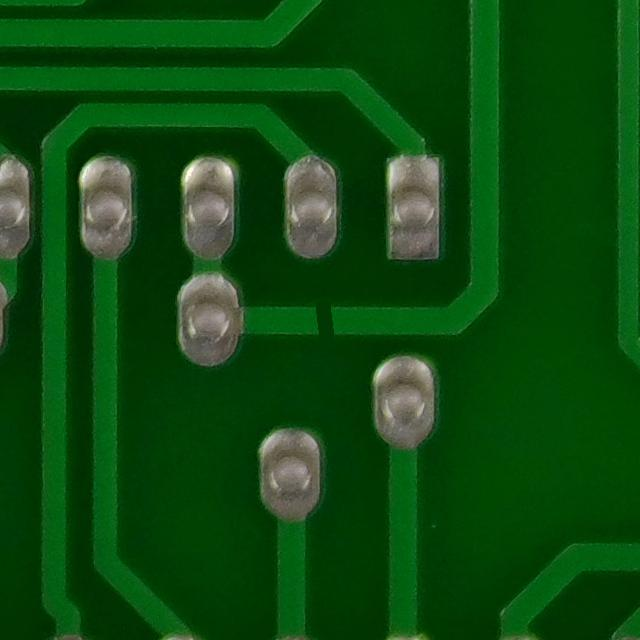open_circuit: (292, 289, 349, 352)
